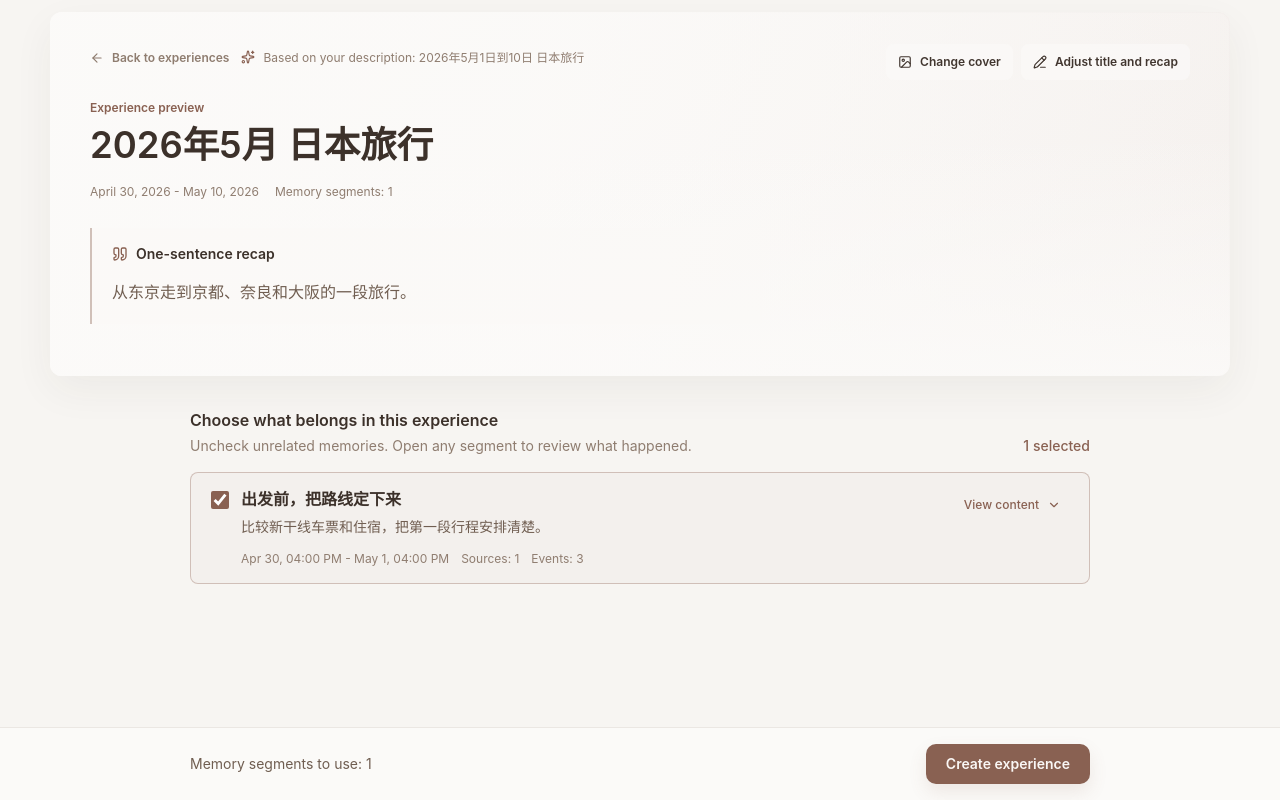
Test: MemoryEpisodesPage › merges direct and episode events without showing duplicates
Click the button "View content": {"x": 1012, "y": 505} [956,489,1069,521]
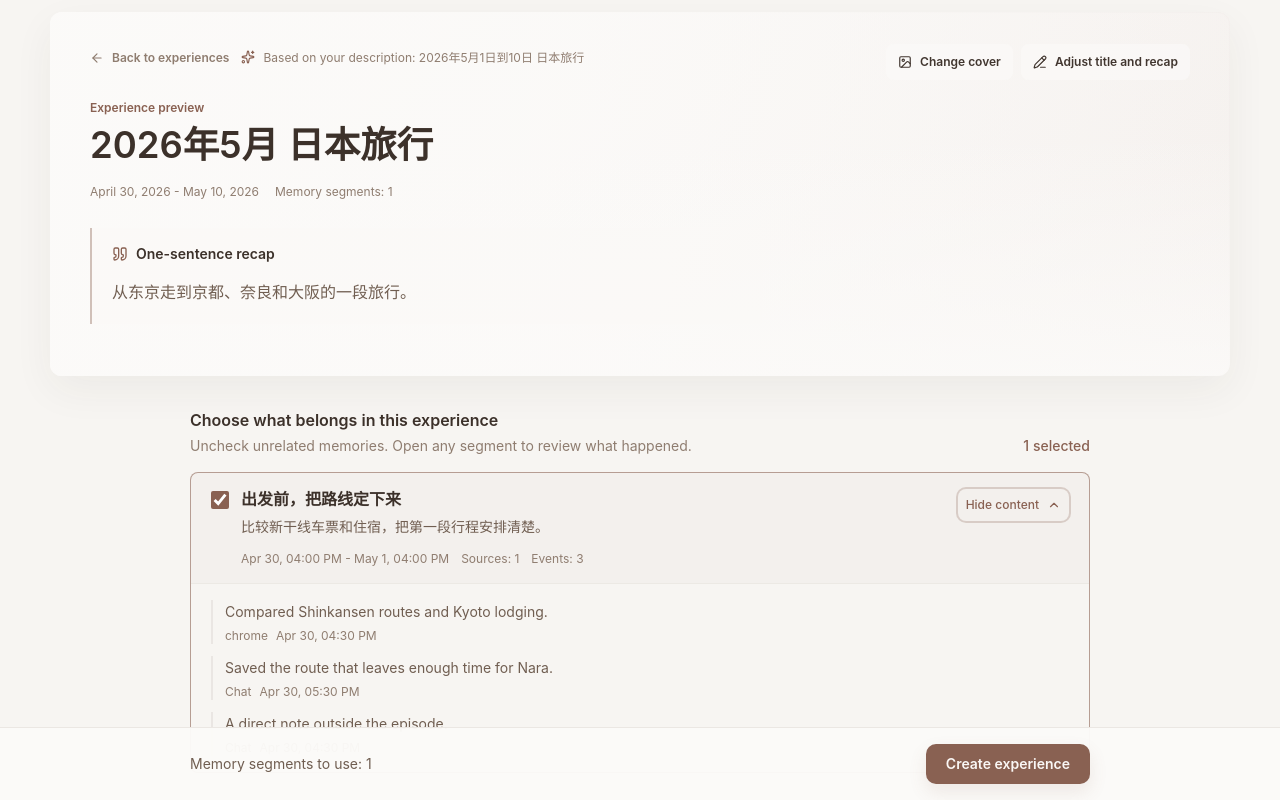
expect the text "A direct note outside the episode." is shown: met, box [225,715,448,732]
expect the text "Compared Shinkansen routes and Kyoto lodging." is shown once: met, box [225,603,548,620]
expect the number of list items is 3: met, box [211,600,1069,644]; [211,656,1069,700]; [211,712,1069,756]
